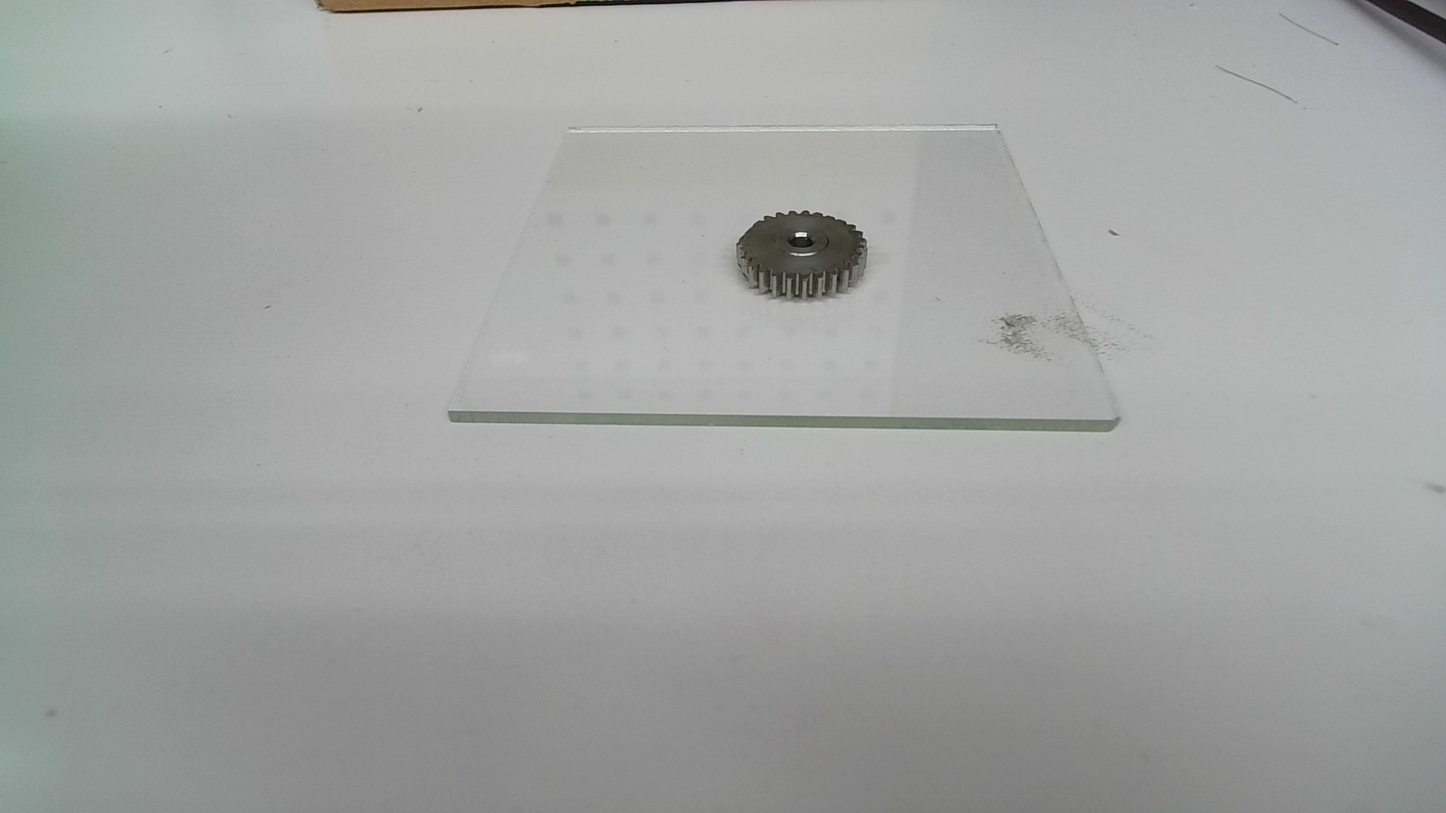gear: (732, 209, 873, 307)
